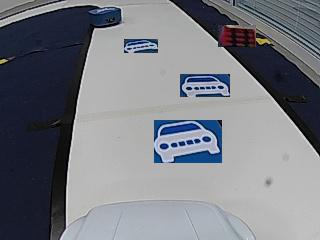prop: (89, 7, 121, 27)
